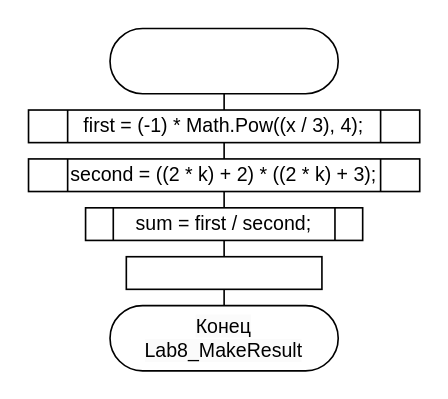
This 448x399 diagram has some shape labels left out. The box of each missing label's shape, as (x1, y1, x2, y2) in pixels:
return sum;: (125, 255, 322, 289)
Начало Lab8_MakeResult: (108, 27, 338, 94)
